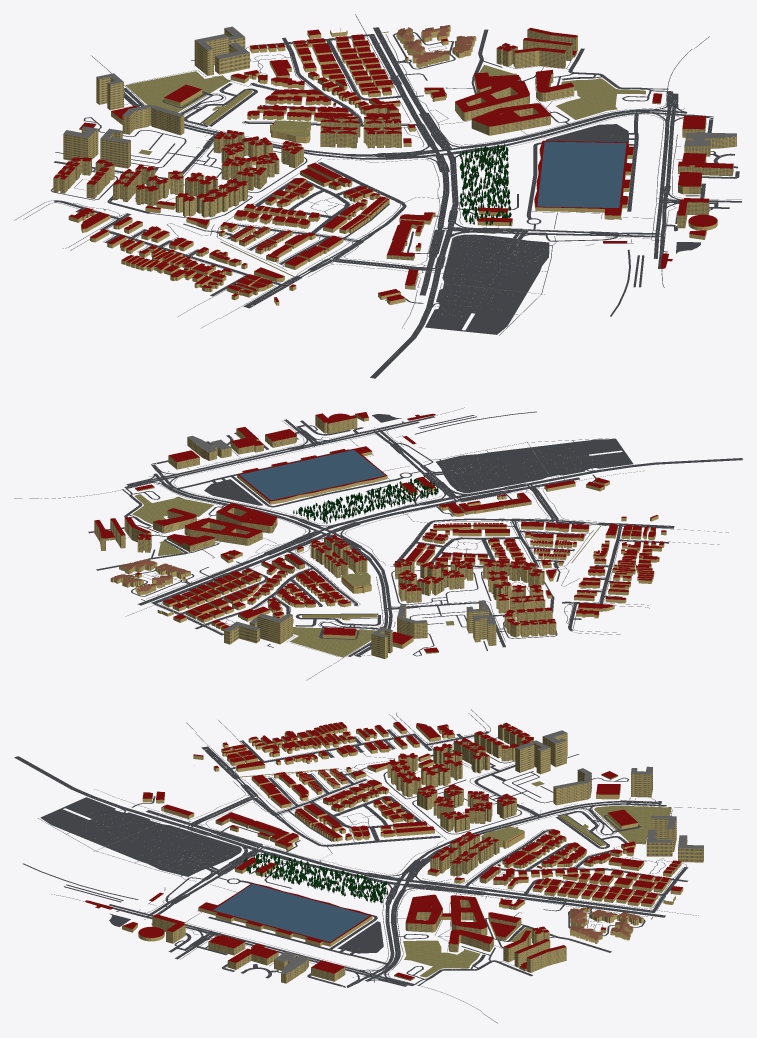
The model's file is osm3d.glb.
3 views of the same model, one above another, from view 1: azimuth 30°, elevation 25°; view 2: azimuth 150°, elevation 25°; view 3: azimuth 270°, elevation 25° (orthographic). The views are drawn at different scales.
Parts seen in each view (by area): view 1: Plaster002, ASPHALT, RoofingTiles010, Windows, SOLAR_PANEL, TERRAIN_DEFAULT, Concrete034, TextureAtlas 4d0efe35, RoofingTiles010.001; view 2: ASPHALT, Plaster002, RoofingTiles010, Windows, SOLAR_PANEL, TERRAIN_DEFAULT, Concrete034, TextureAtlas 4d0efe35, RoofingTiles010.001; view 3: Plaster002, ASPHALT, RoofingTiles010, Windows, SOLAR_PANEL, TERRAIN_DEFAULT, Concrete034, TextureAtlas 4d0efe35, RoofingTiles010.001.
Part boxes in pixels (x1,y1,x2,y2): Plaster002: (53, 25, 736, 305); ASPHALT: (14, 14, 741, 378); RoofingTiles010: (54, 27, 733, 301); Windows: (53, 29, 736, 259); SOLAR_PANEL: (537, 141, 626, 207); TERRAIN_DEFAULT: (125, 31, 645, 276); Concrete034: (63, 26, 741, 328); TextureAtlas 4d0efe35: (459, 143, 511, 226); RoofingTiles010.001: (397, 25, 475, 63); ASPHALT: (14, 407, 742, 680); Plaster002: (94, 414, 666, 658); RoofingTiles010: (94, 412, 666, 652); Windows: (94, 417, 555, 658); SOLAR_PANEL: (239, 450, 385, 500); TERRAIN_DEFAULT: (132, 494, 600, 657); Concrete034: (142, 420, 728, 637); TextureAtlas 4d0efe35: (293, 476, 438, 524); RoofingTiles010.001: (111, 559, 190, 591); Plaster002: (88, 723, 703, 983); ASPHALT: (14, 709, 739, 1023); RoofingTiles010: (85, 722, 682, 979); Windows: (152, 726, 703, 982); SOLAR_PANEL: (213, 884, 369, 941); TERRAIN_DEFAULT: (240, 768, 671, 977); Concrete034: (93, 720, 703, 974); TextureAtlas 4d0efe35: (234, 852, 388, 903); RoofingTiles010.001: (570, 907, 643, 940).
Bounding box in the file's own units: 1450 × 50.98 × 1422.
18 materials, 18 textured.
